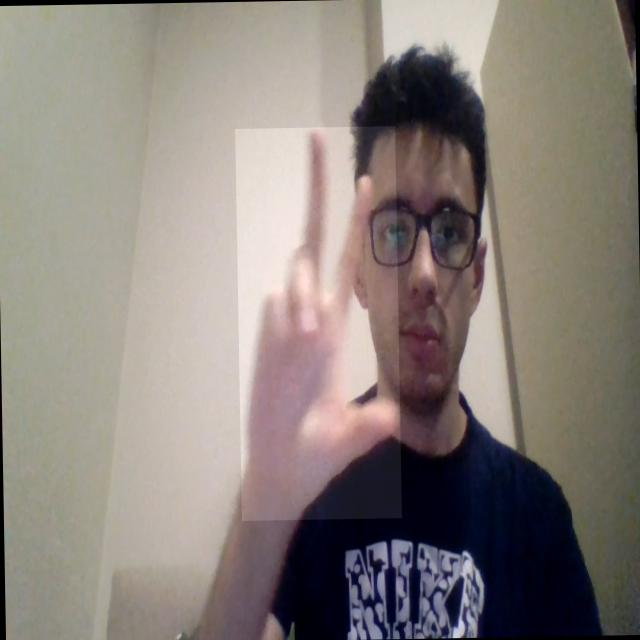no: (235, 125, 402, 520)
